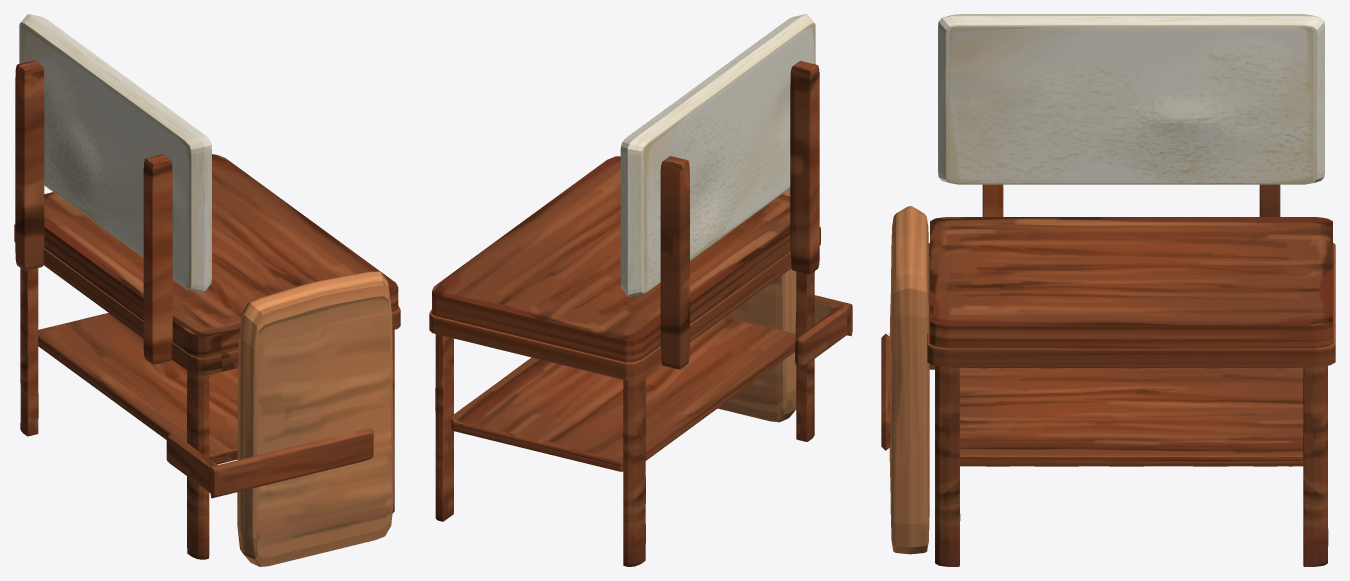
The model's file is Workbench.fbx.
3 views of the same model, side by side, from view 1: azimuth 30°, elevation 25°; view 2: azimuth 150°, elevation 25°; view 3: azimuth 270°, elevation 25° (orthographic). The views are drawn at different scales.
Visible parts, largest first — view 1: Workbench; view 2: Workbench; view 3: Workbench.
Part boxes in pixels (x1,y1,x2,y2): Workbench: (14,14,400,566); Workbench: (429,14,852,566); Workbench: (881,14,1335,566).
Size of the model in its own units: 121 by 212 by 193.
Materials: 1 (1 with a texture image).
